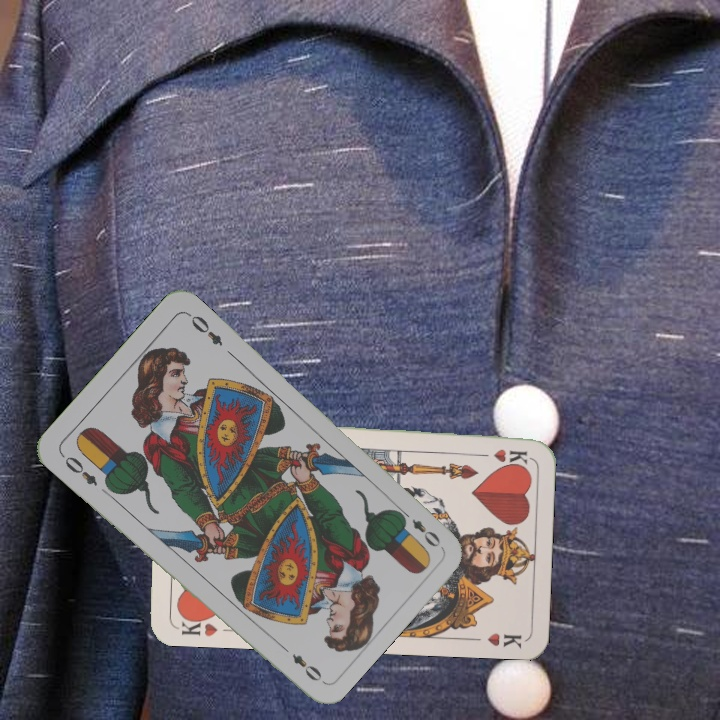EO: (395, 505, 444, 550), (57, 450, 100, 489)
HK: (174, 611, 220, 639), (471, 444, 530, 465)
